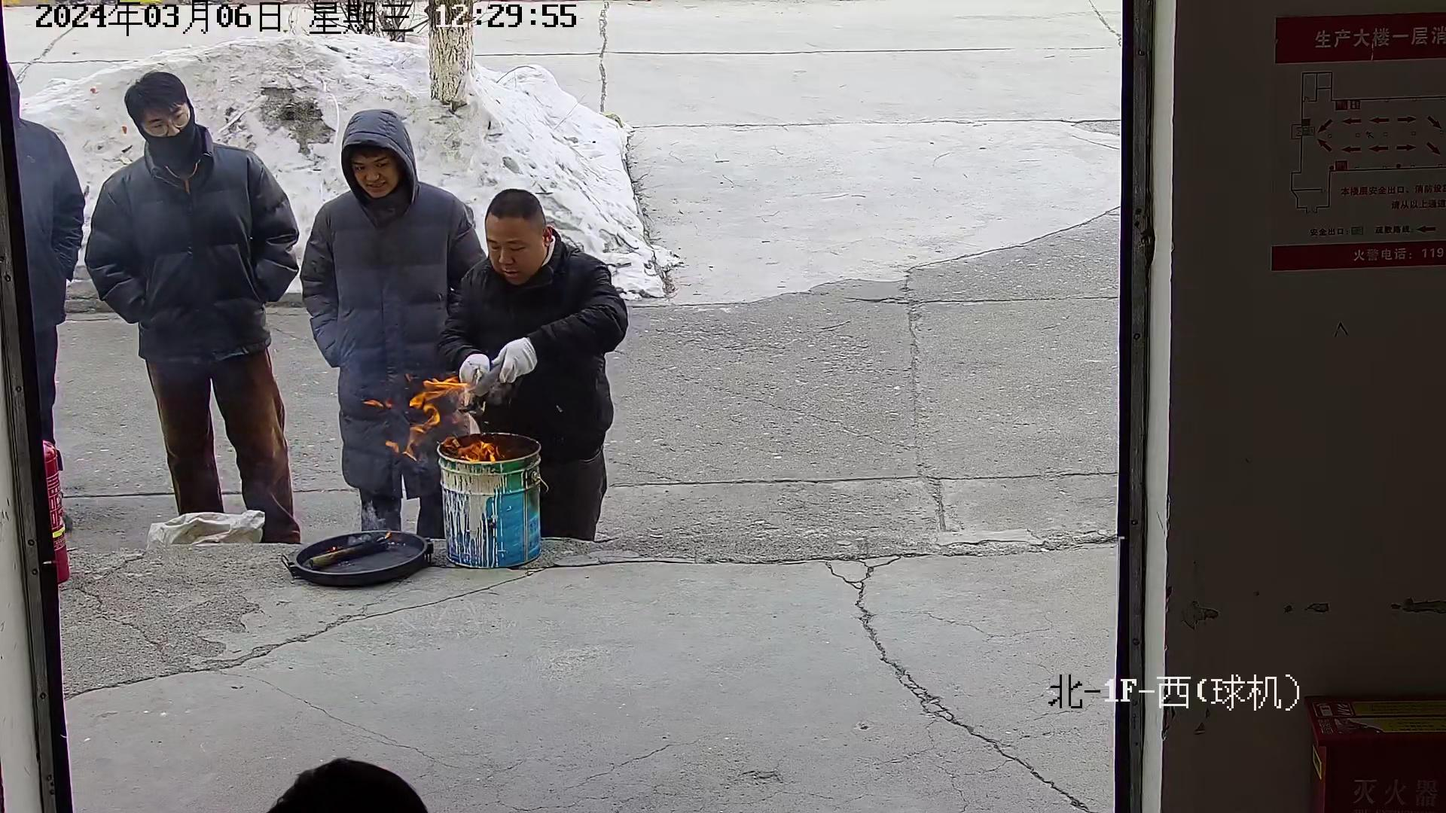fire: (384, 376, 529, 462)
